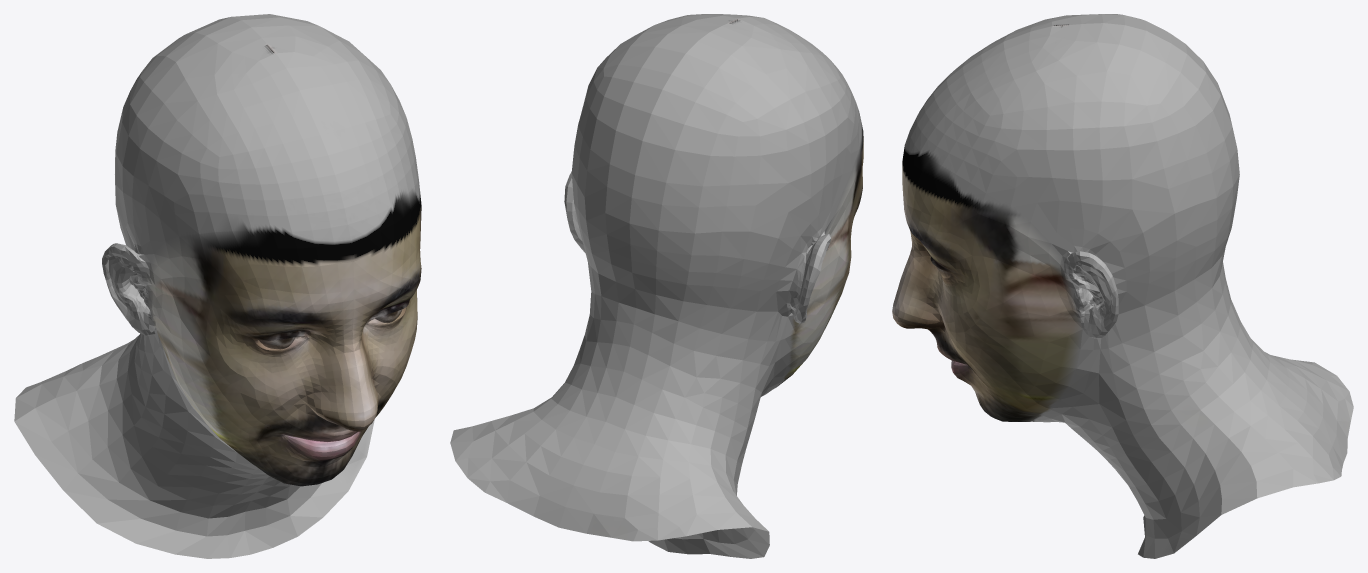
File: ezgif-frame-071.obj
3 views of the same model, side by side, from view 1: azimuth 30°, elevation 25°; view 2: azimuth 150°, elevation 25°; view 3: azimuth 270°, elevation 25° (orthographic). The views are drawn at different scales.
Size of the model in its own units: 0.2096 by 0.3283 by 0.2686.
1 material, 1 textured.
